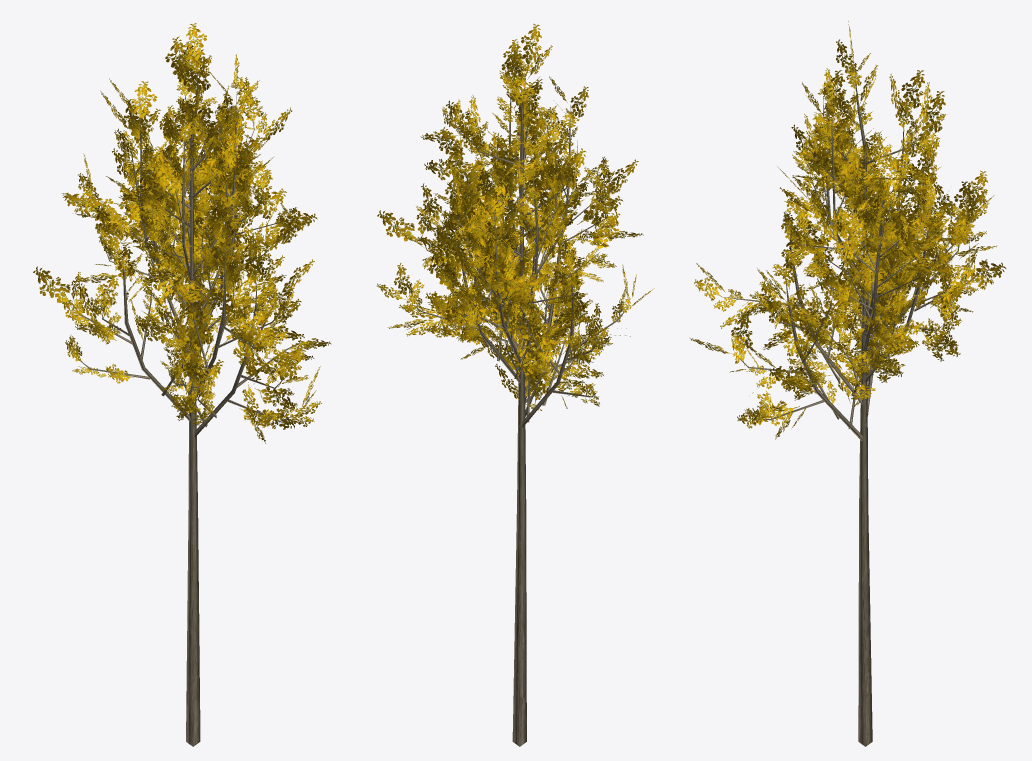
Rendered from tree_LOD2.glb.
The picture shows the model from 3 angles, left to right: view 1: azimuth 30°, elevation 25°; view 2: azimuth 150°, elevation 25°; view 3: azimuth 270°, elevation 25°; orthographic projection.
Visible parts, largest first — view 1: Leaves_LOD2, Branches_LOD2; view 2: Leaves_LOD2, Branches_LOD2; view 3: Leaves_LOD2, Branches_LOD2.
Boxes of the visible parts, x1,y1,x2,y2 form: Leaves_LOD2: (33, 23, 331, 443); Branches_LOD2: (70, 72, 299, 746); Leaves_LOD2: (376, 23, 654, 410); Branches_LOD2: (411, 74, 626, 746); Leaves_LOD2: (690, 21, 1006, 439); Branches_LOD2: (721, 76, 982, 746).
Size of the model in its own units: 38.86 by 107 by 44.44.
Materials: 2 (2 with a texture image).
